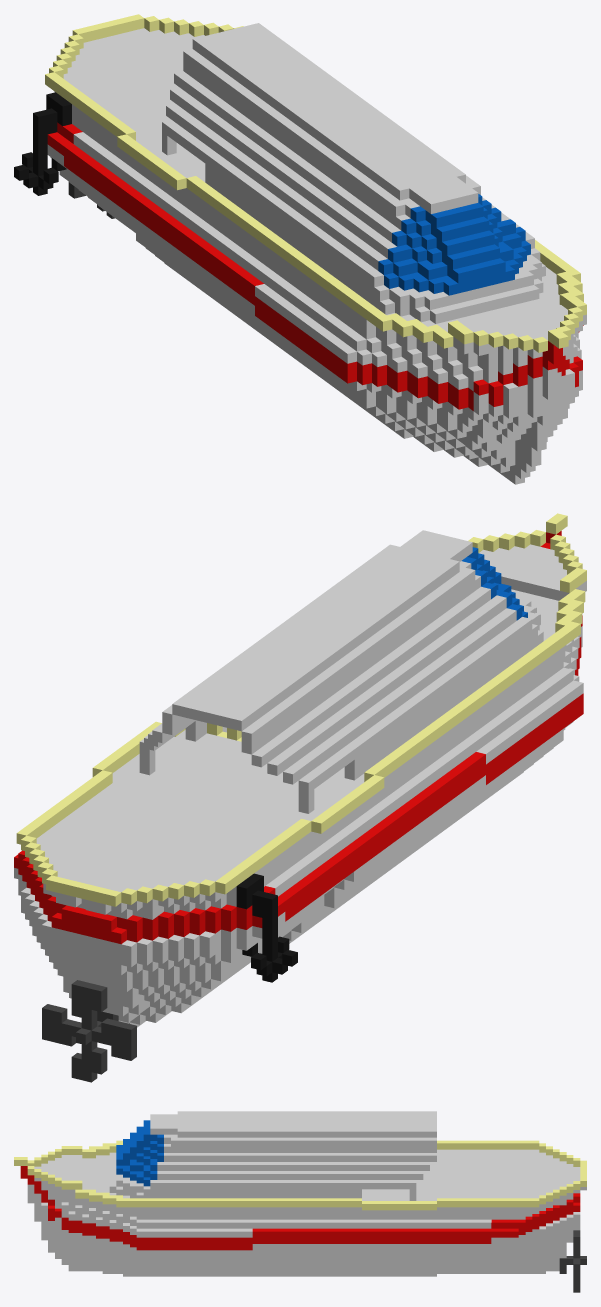
The model's file is KRZ.obj.
3 renders of one model, top to bottom at view 1: azimuth 30°, elevation 25°; view 2: azimuth 150°, elevation 25°; view 3: azimuth 270°, elevation 25°, orthographic. The views are drawn at different scales.
Size of the model in its own units: 2.8 by 2.7 by 8.4.
Materials: 1 (1 with a texture image).
